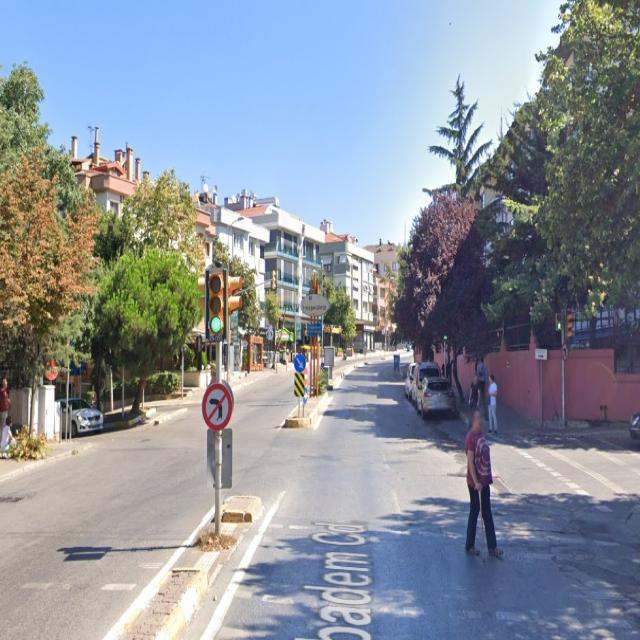girisyok: (301, 368, 308, 384)
sag: (303, 388, 308, 404)
soladonulmez: (203, 385, 232, 431), (562, 344, 568, 362)
yesil: (205, 268, 228, 340)
